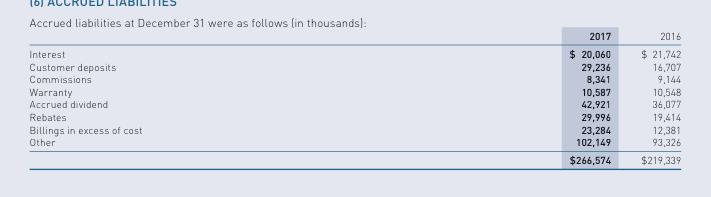table: (28, 28, 680, 165)
table column: (28, 28, 354, 165), (354, 28, 625, 165), (625, 28, 680, 165)
table column header: (28, 28, 680, 44)
table row: (28, 28, 680, 44), (28, 44, 680, 59), (28, 135, 680, 150), (28, 150, 680, 165), (28, 59, 680, 72), (28, 84, 680, 97), (28, 109, 680, 122), (28, 122, 680, 135), (28, 72, 680, 84), (28, 97, 680, 109)
